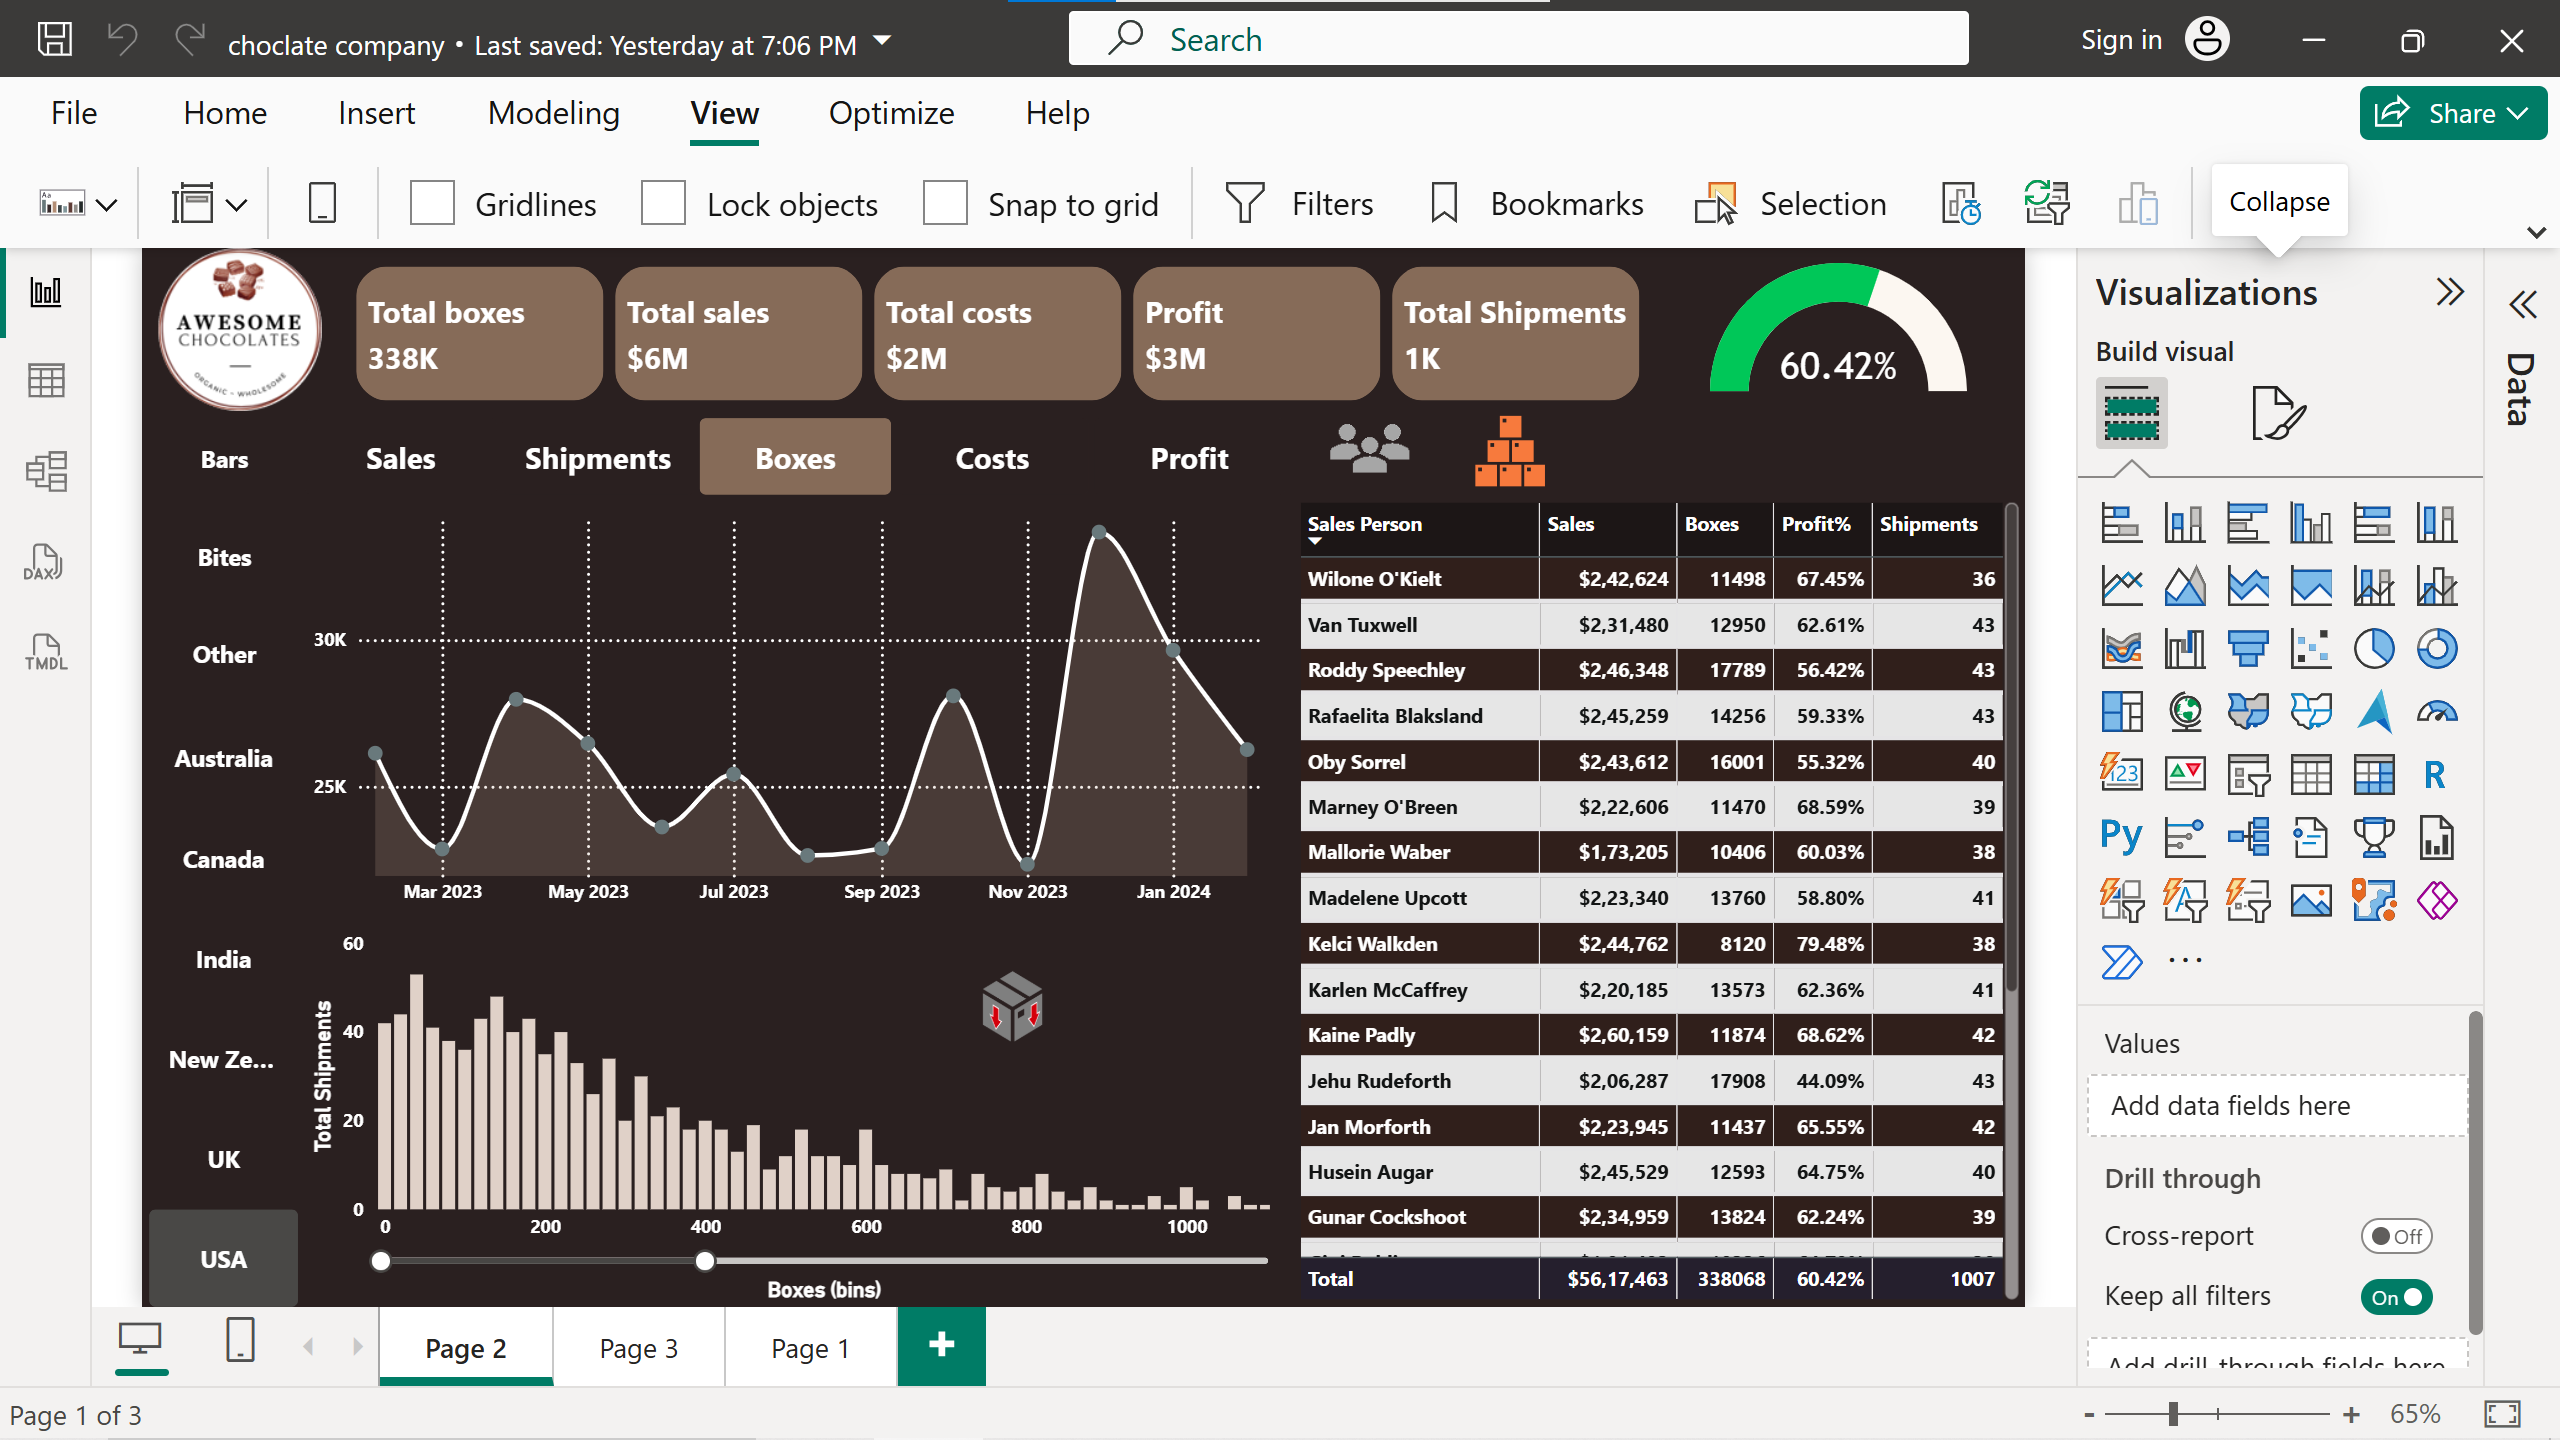

What the dashboard file says about the page in this screenshot:
{"tool":"powerbi","page":{"name":"Page 2","canvas":[1280,720],"ordinal":0},"visuals":[{"type":"gauge","fields":{"Y":["_Measures.Profit%"]},"box":[1026,0,254,107.3],"z":0},{"type":"cardVisual","fields":{"Data":["_Measures.Total boxes","_Measures.Total sales","_Measures.Total costs","_Measures.Profit","_Measures.total shipments"]},"box":[136.9,3.8,889,107.3],"z":1000},{"type":"lineChart","fields":{"Y":["_Measures.Total boxes"],"Category":["calendar.Start of Month"]},"box":[112.3,172.3,669.5,283.1],"z":2000},{"type":"advancedSlicerVisual","fields":{"Values":["measure selector.measure selector"]},"box":[106.7,111.7,675,60],"z":3000},{"type":"advancedSlicerVisual","fields":{"Values":["shipments.Geography"]},"box":[0,313.3,111.7,406.7],"z":4000},{"type":"advancedSlicerVisual","fields":{"Values":["products.Category"]},"box":[0,106.3,112.3,206.7],"z":5000},{"type":"columnChart","fields":{"Category":["shipments.Boxes (bins)"],"Y":["_Measures.total shipments"]},"box":[110.6,458,674.5,261.7],"z":6000},{"type":"tableEx","title":"sales table","fields":{"Values":["shipments.Sales Person","_Measures.Total sales","_Measures.Total boxes","_Measures.Profit%","_Measures.total shipments"]},"box":[781.9,167.8,498.8,551.2],"z":10000},{"type":"image","title":"peopledull","box":[784.9,106.3,100,61.4],"z":11000},{"type":"image","title":"product","box":[885.2,106.3,100,63.4],"z":12000},{"type":"image","box":[0,0,133.3,110.8],"z":13000},{"type":"image","box":[545.2,486.8,91.4,58.4],"z":14000}]}

Visuals, with their boxes on the page's 1280x720 design canvas (x1, y1, x2, y2). These are canvas units, not pixel positions in the 2560x1440 screenshot, which may show the page scaled, cropped or inside an application window:
gauge - _Measures.Profit%: [left=1026, top=0, right=1280, bottom=107]
cardVisual - _Measures.Total boxes x _Measures.Total sales: [left=137, top=4, right=1026, bottom=111]
lineChart - _Measures.Total boxes x calendar.Start of Month: [left=112, top=172, right=782, bottom=455]
advancedSlicerVisual - measure selector.measure selector: [left=107, top=112, right=782, bottom=172]
advancedSlicerVisual - shipments.Geography: [left=0, top=313, right=112, bottom=720]
advancedSlicerVisual - products.Category: [left=0, top=106, right=112, bottom=313]
columnChart - shipments.Boxes (bins) x _Measures.total shipments: [left=111, top=458, right=785, bottom=720]
"sales table" tableEx: [left=782, top=168, right=1281, bottom=719]
"peopledull" image: [left=785, top=106, right=885, bottom=168]
"product" image: [left=885, top=106, right=985, bottom=170]
image: [left=0, top=0, right=133, bottom=111]
image: [left=545, top=487, right=637, bottom=545]
